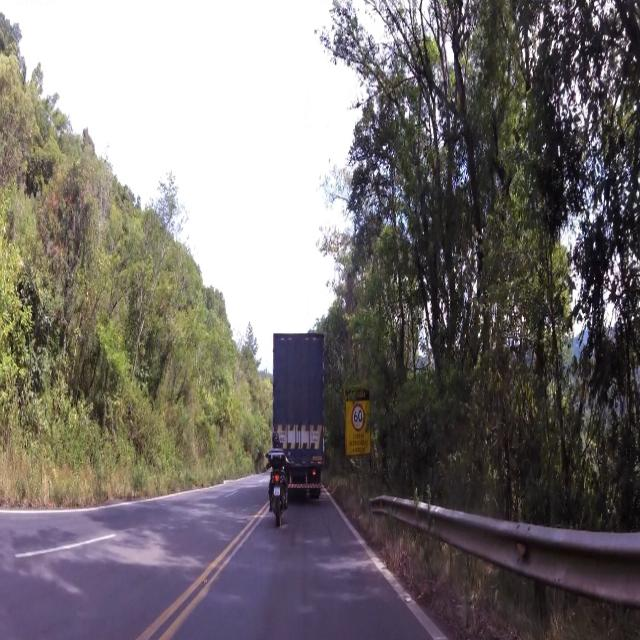R-19: (350, 400, 365, 436)
